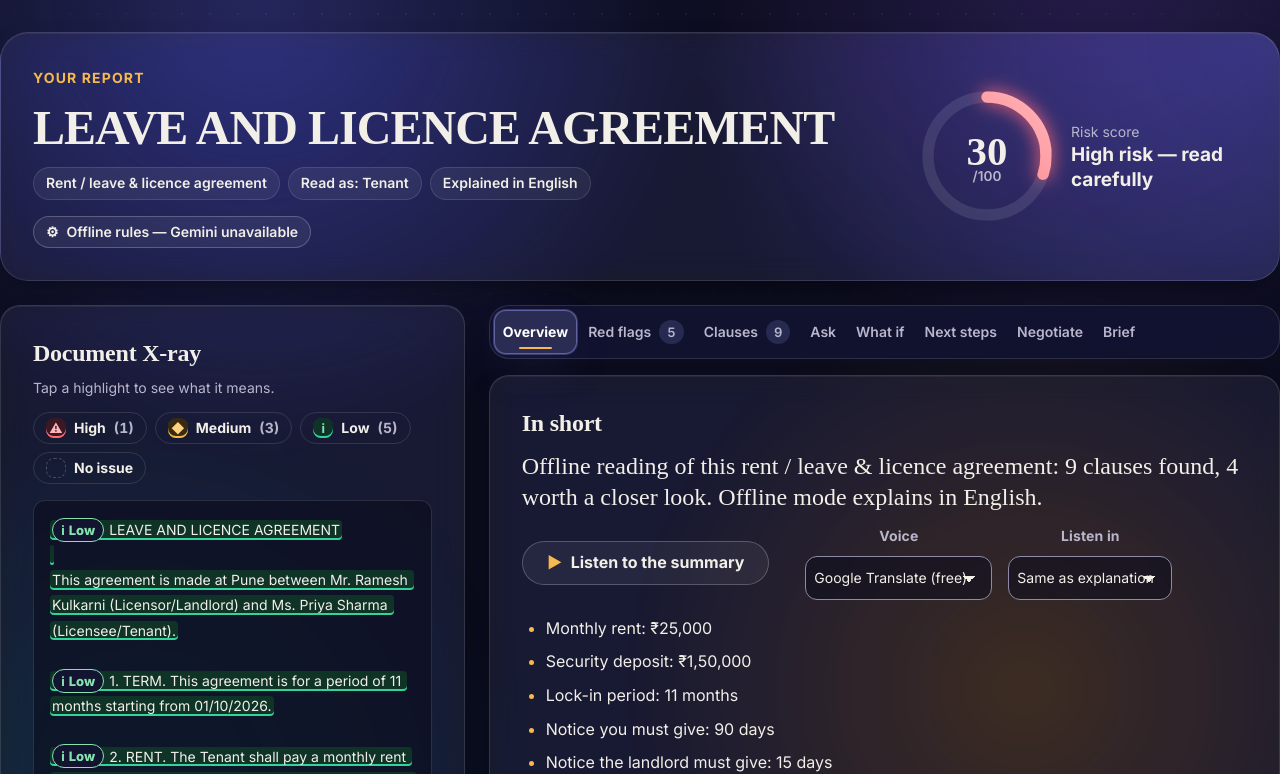
Test case: ReportWorkspace › loads the Next steps panel lazily when its tab opens
Click the tab "Next steps". click: (961, 332)
box: [916,310,1006,354]
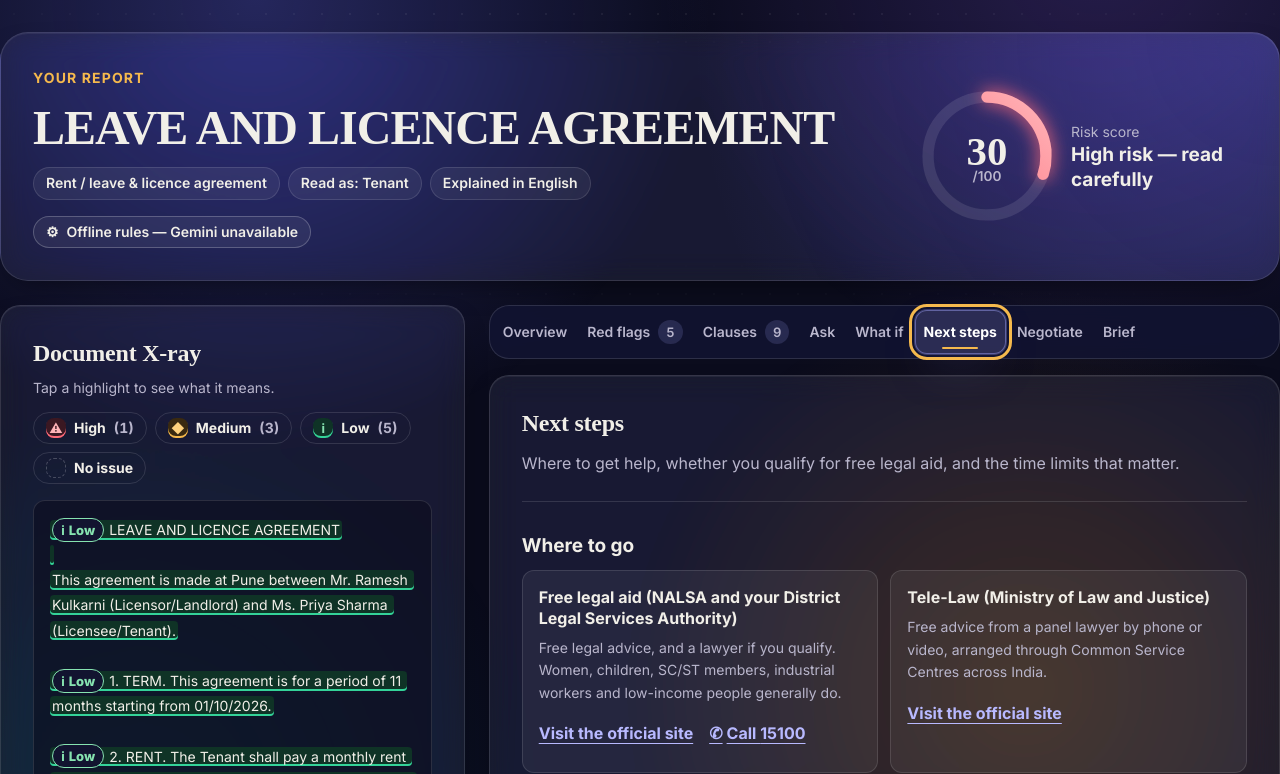
Expected: the heading "Next steps" is shown, [522,410,624,436]
